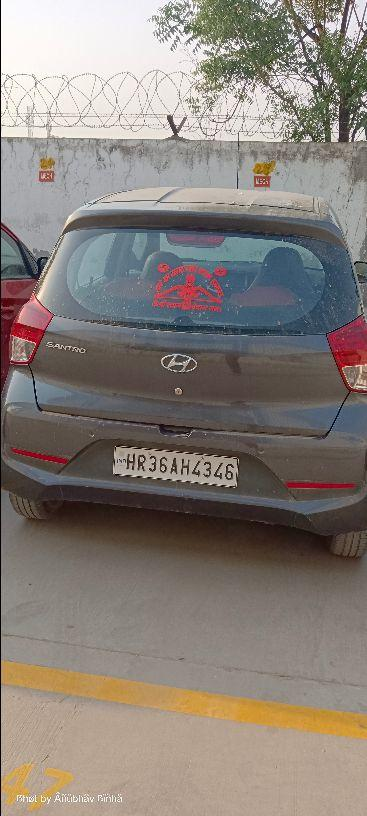license_plate: (111, 443, 239, 489)
